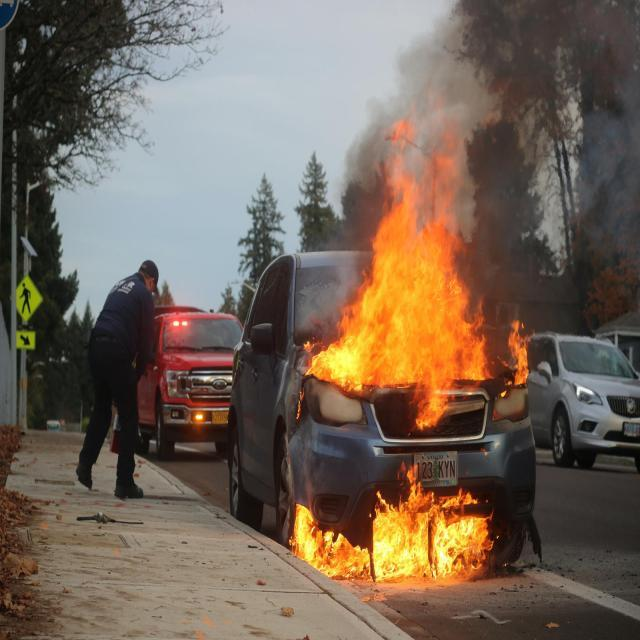Fire: (310, 126, 490, 428), (293, 455, 491, 589), (504, 314, 530, 384)
Smoke: (342, 0, 639, 320)
